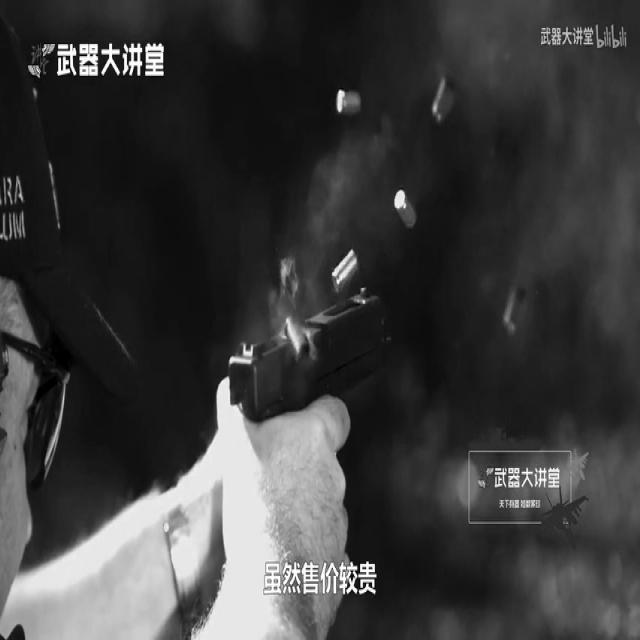Hand-Gun: (194, 213, 459, 599)
